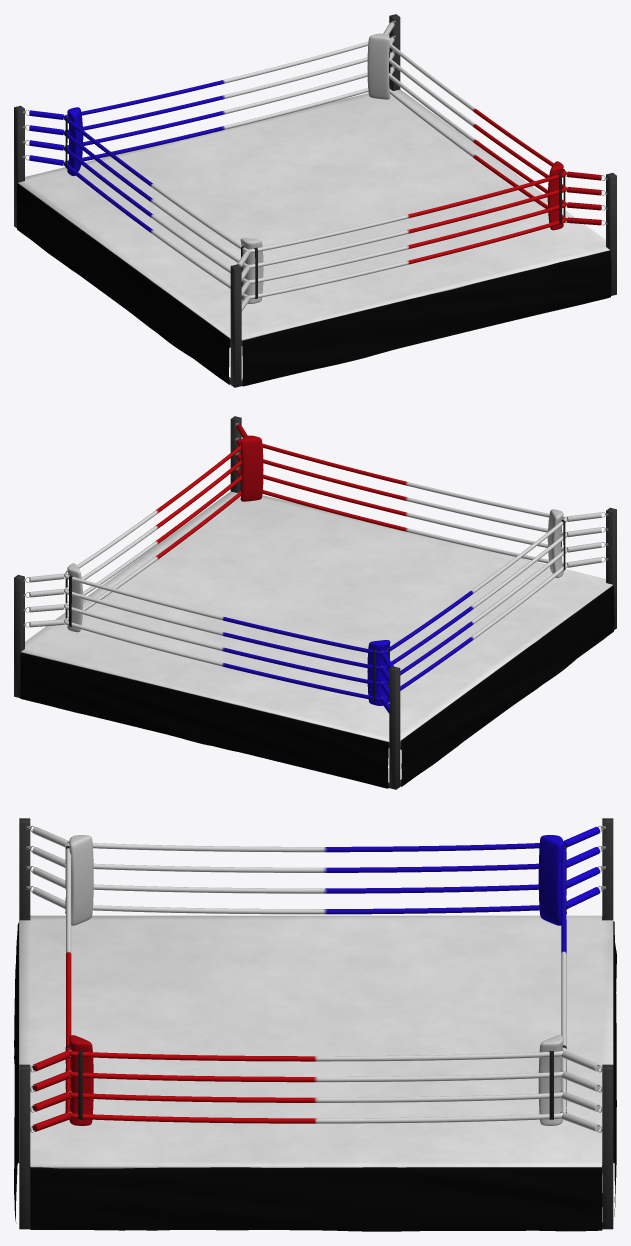
The model's file is Boxing Ring.fbx.
3 renders of one model, top to bottom at view 1: azimuth 30°, elevation 25°; view 2: azimuth 150°, elevation 25°; view 3: azimuth 270°, elevation 25°, orthographic. The views are drawn at different scales.
Parts seen in each view (by area): view 1: Boxing Ring; view 2: Boxing Ring; view 3: Boxing Ring.
Boxes of the visible parts, x1,y1,x2,y2 form: Boxing Ring: [14, 14, 616, 387]; Boxing Ring: [14, 416, 616, 789]; Boxing Ring: [14, 818, 616, 1231].
Size of the model in its own units: 793 by 240 by 792.
